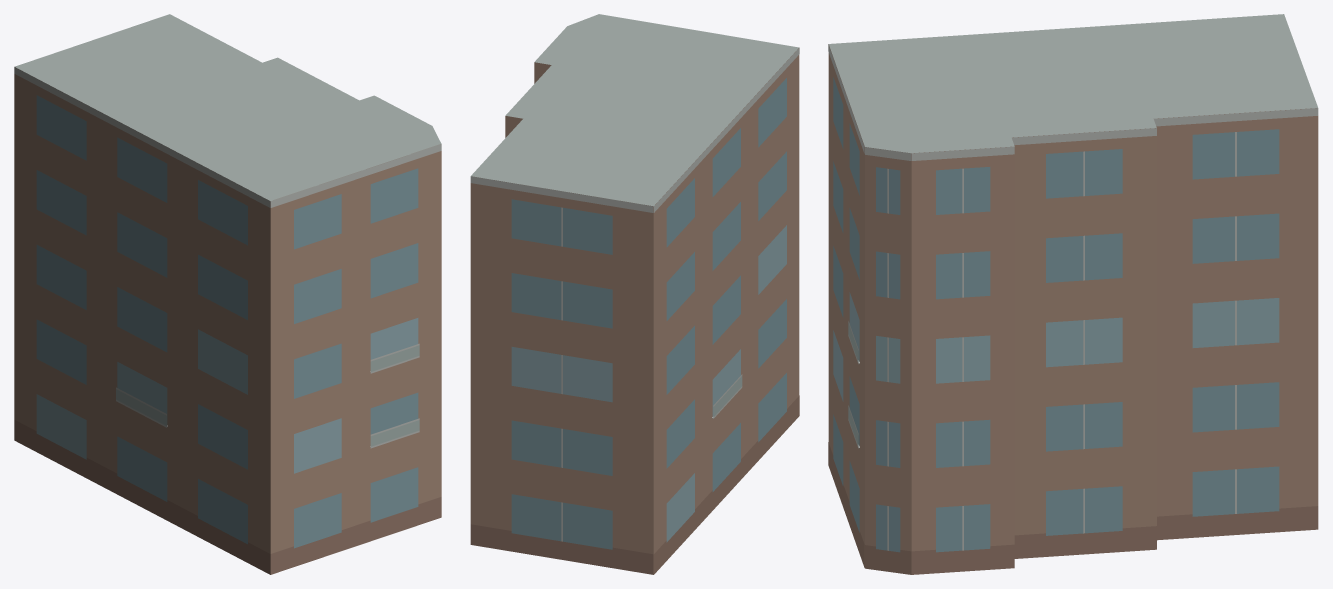
Rendered from survey-upis-33039802.glb.
3 views of the same model, side by side, from view 1: azimuth 30°, elevation 25°; view 2: azimuth 150°, elevation 25°; view 3: azimuth 270°, elevation 25° (orthographic). The views are drawn at different scales.
Parts seen in each view (by area): view 1: survey-upis-33039802.tmp; view 2: survey-upis-33039802.tmp; view 3: survey-upis-33039802.tmp.
Boxes of the visible parts, box(x1,y1,x2,y2) form: survey-upis-33039802.tmp: box(14, 14, 441, 574); survey-upis-33039802.tmp: box(470, 14, 799, 574); survey-upis-33039802.tmp: box(828, 14, 1318, 574).
Size of the model in its own units: 9.25 by 13.05 by 13.75.
